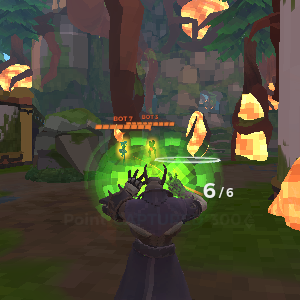model: (146, 135, 156, 158), (119, 139, 128, 161)
